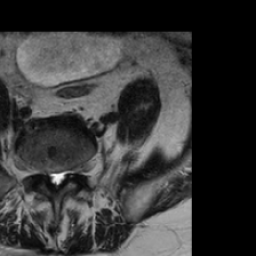CCS_severe_stenosis: (52, 162, 59, 195)
LFS_severe_stenosis: (68, 162, 76, 181)
LLS_stenosis: (59, 165, 67, 190)
RFS_severe_stenosis: (37, 161, 47, 181)
RLS_severe_stenosis: (45, 165, 53, 186)
